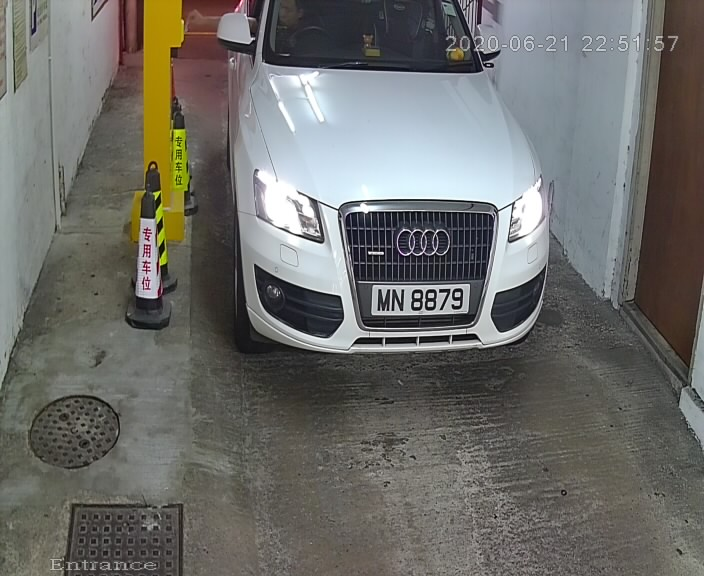privatecar: (219, 2, 565, 387)
